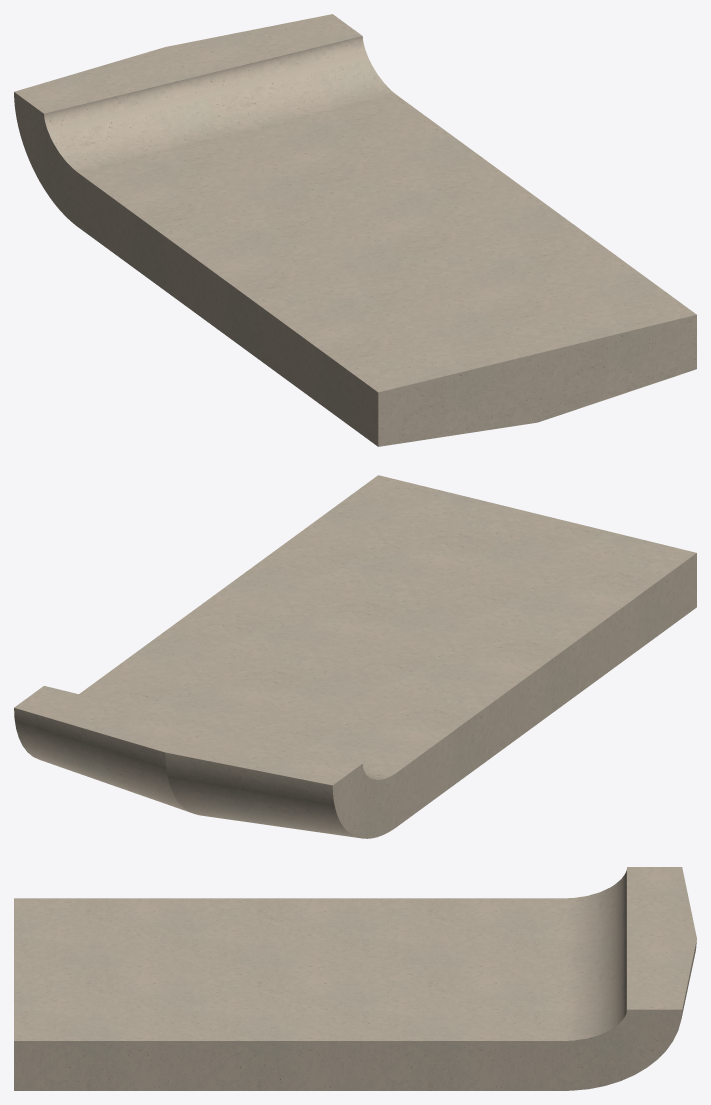
The picture shows the model from 3 angles, top to bottom: view 1: azimuth 30°, elevation 25°; view 2: azimuth 150°, elevation 25°; view 3: azimuth 270°, elevation 25°; orthographic projection. The views are drawn at different scales.
Parts seen in each view (by area): view 1: F1.SLDPRT; view 2: F1.SLDPRT; view 3: F1.SLDPRT.
Boxes of the visible parts, x1,y1,x2,y2 form: F1.SLDPRT: [14, 14, 696, 446]; F1.SLDPRT: [14, 475, 696, 838]; F1.SLDPRT: [14, 867, 696, 1090].
Bounding box in the file's own units: 0.245 × 0.0757 × 0.4957.
1 material, 1 textured.
